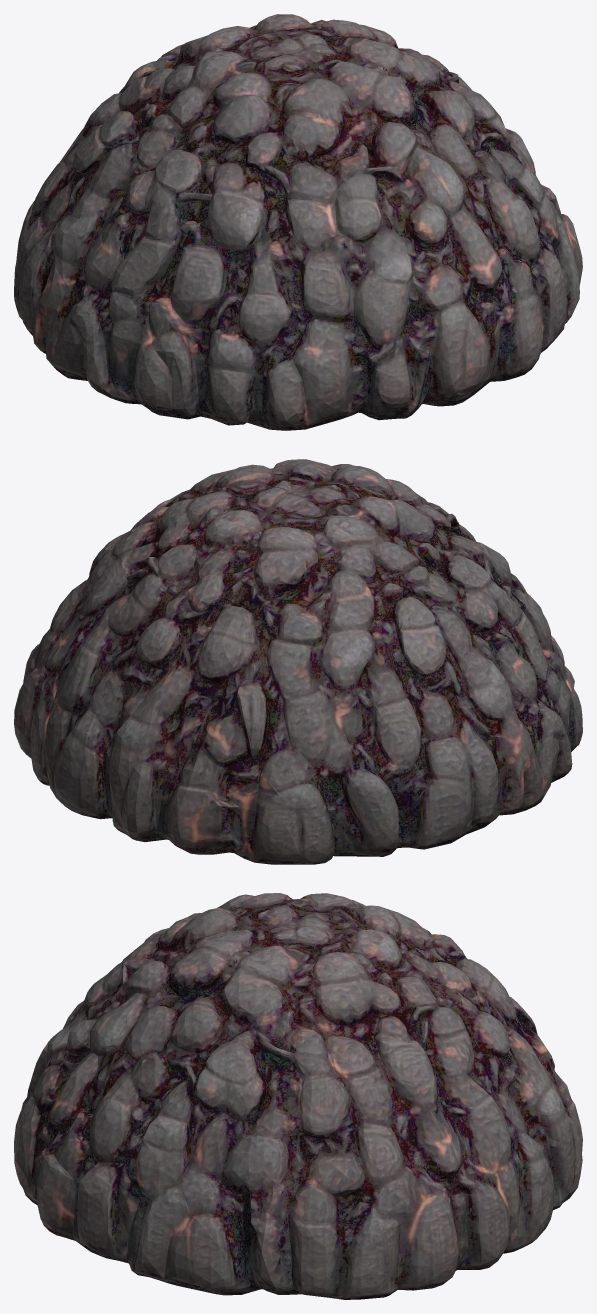
The model's file is hollowNestSpawn.glb.
3 renders of one model, top to bottom at view 1: azimuth 30°, elevation 25°; view 2: azimuth 150°, elevation 25°; view 3: azimuth 270°, elevation 25°, orthographic. The views are drawn at different scales.
Parts seen in each view (by area): view 1: world; view 2: world; view 3: world.
Boxes of the visible parts, bbox=[...] form: world: bbox=[14, 14, 582, 430]; world: bbox=[14, 459, 582, 864]; world: bbox=[14, 893, 582, 1299].
Bounding box in the file's own units: 0.9867 × 0.516 × 0.9821.
Materials: 1 (1 with a texture image).
